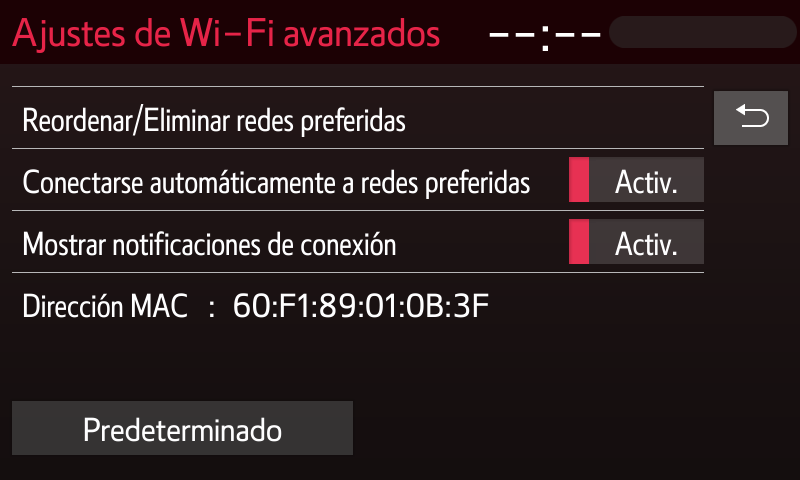touchPart: (10, 204, 706, 280), (7, 78, 708, 151), (8, 142, 708, 215), (7, 268, 707, 332), (5, 389, 358, 457), (713, 89, 796, 149)
untouchPart: (13, 13, 440, 50), (481, 7, 795, 53)
